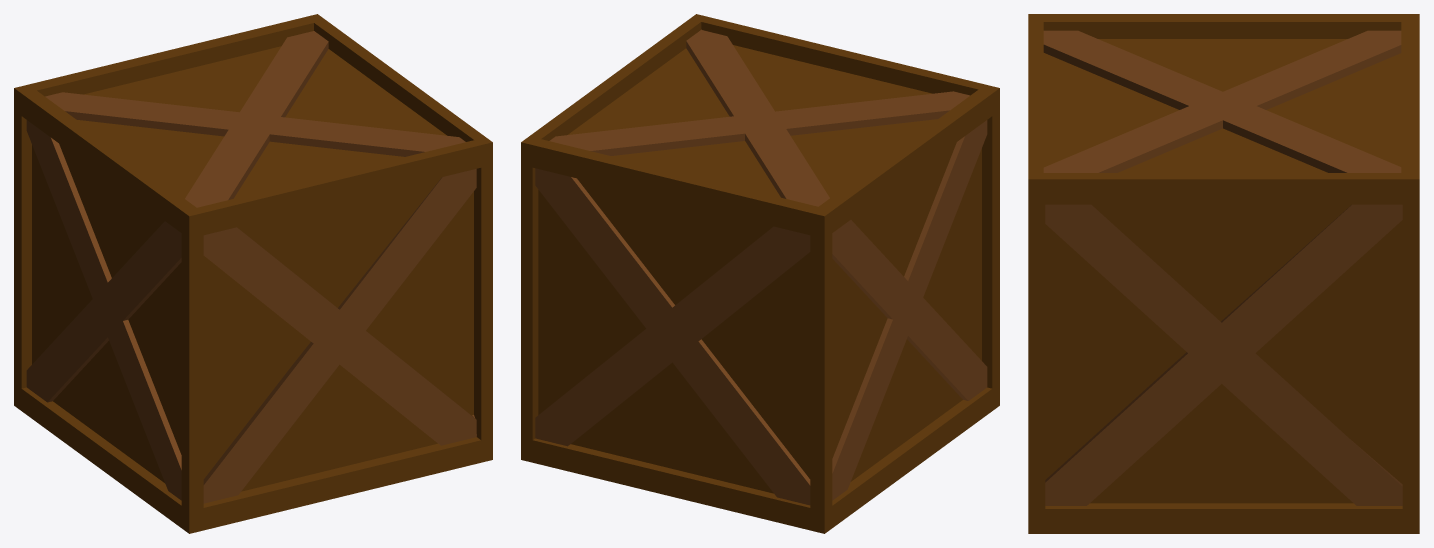
The model's file is kasse (1).fbx.
The picture shows the model from 3 angles, left to right: view 1: azimuth 30°, elevation 25°; view 2: azimuth 150°, elevation 25°; view 3: azimuth 270°, elevation 25°; orthographic projection. The views are drawn at different scales.
Parts seen in each view (by area): view 1: Cube, Cube.003, Cube.002, Cube.001; view 2: Cube, Cube.004, Cube.002, Cube.001; view 3: Cube, Cube.005, Cube.001.
Boxes of the visible parts, x1,y1,x2,y2 form: Cube: (14,14,492,533); Cube.003: (203,169,476,503); Cube.002: (26,120,181,500); Cube.001: (45,31,465,207); Cube: (521,14,999,533); Cube.004: (535,168,810,505); Cube.002: (832,120,987,500); Cube.001: (549,30,969,206); Cube: (1028,14,1419,533); Cube.005: (1045,204,1402,505); Cube.001: (1043,30,1401,172).
Size of the model in its own units: 200 by 200 by 200.
